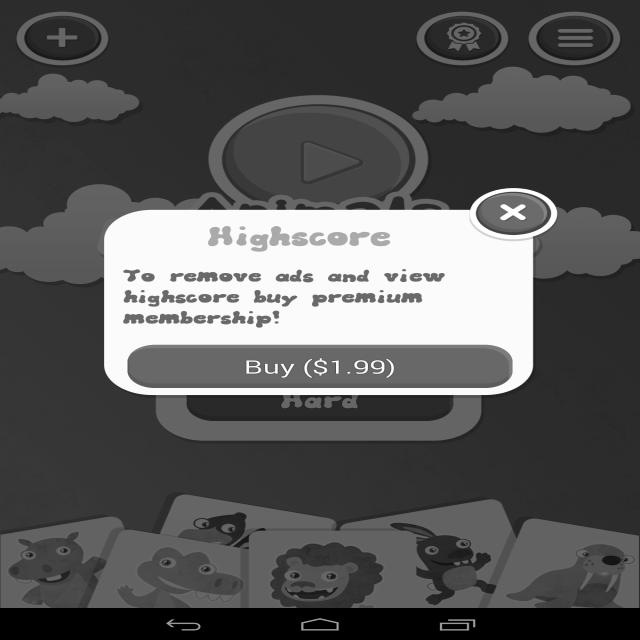Button: (112, 338, 524, 391)
ImageButton: (470, 190, 560, 237), (19, 14, 110, 60), (418, 17, 504, 64), (534, 22, 613, 62)
TextView: (117, 258, 467, 320), (195, 221, 398, 246)
